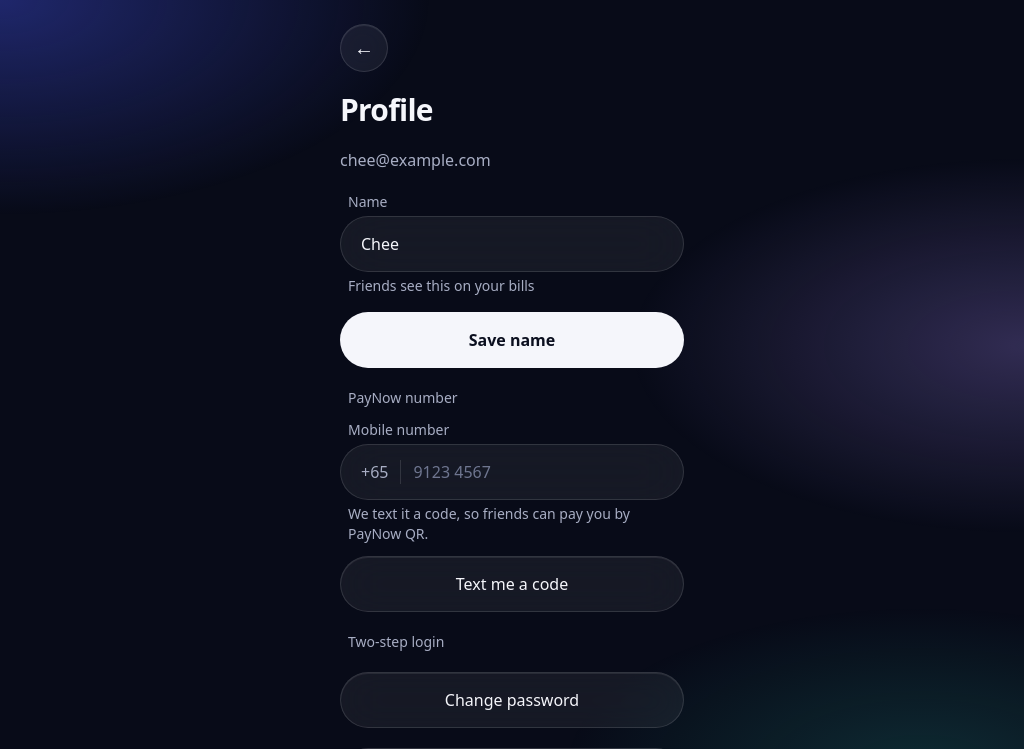
Test case: Change password from Profile (KAN-90) › needs the current password, then keeps you logged in with a new token
The width and height of the screenshot is (1024, 749).
Click the link "Change password" at {"x": 512, "y": 700}, box x1=340 y1=672 x2=684 y2=728
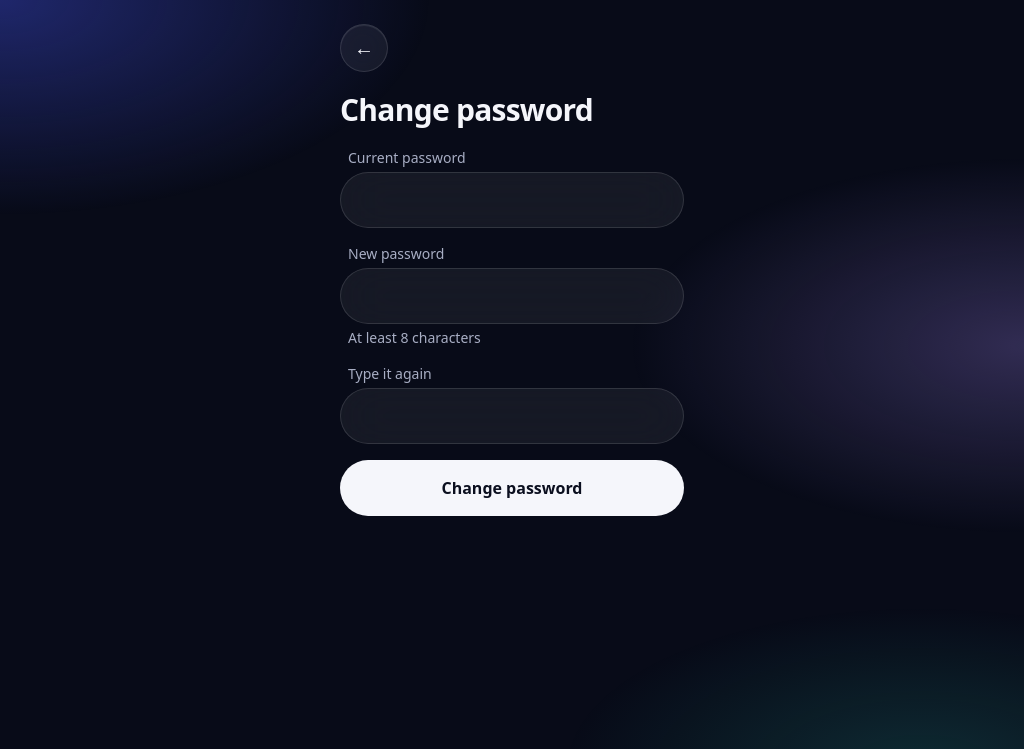
Type "brand new pass" into the password field labelled "New password" at {"x": 512, "y": 296}, box x1=340 y1=268 x2=684 y2=324
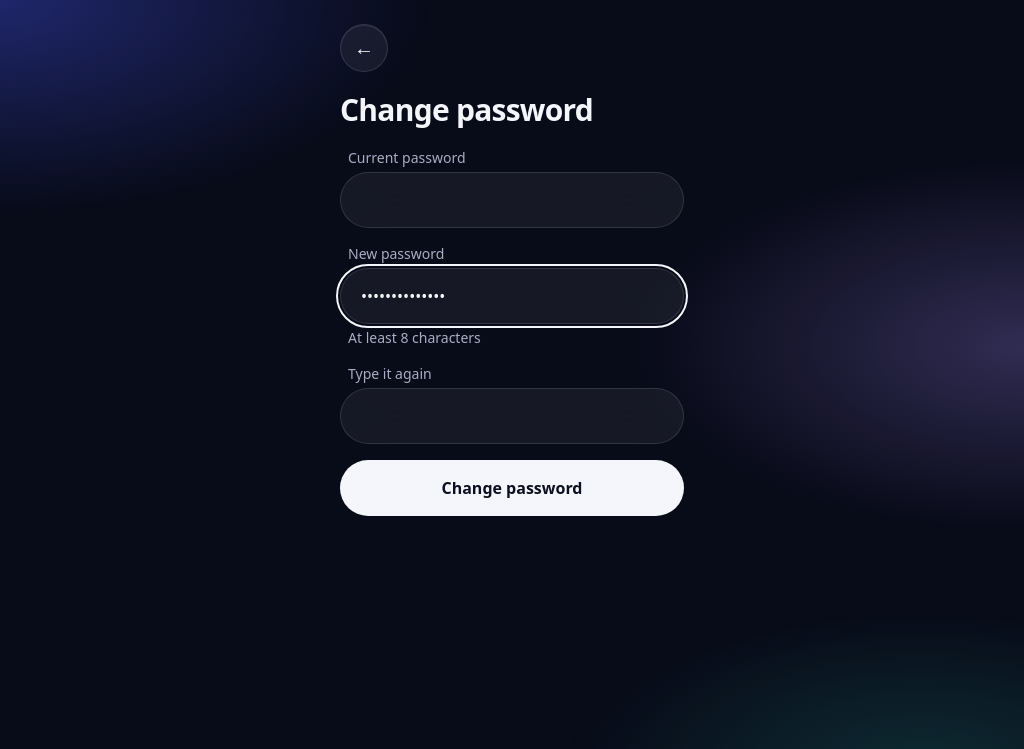
Type "brand new pass" into the password field labelled "Type it again" at {"x": 512, "y": 416}, box x1=340 y1=388 x2=684 y2=444
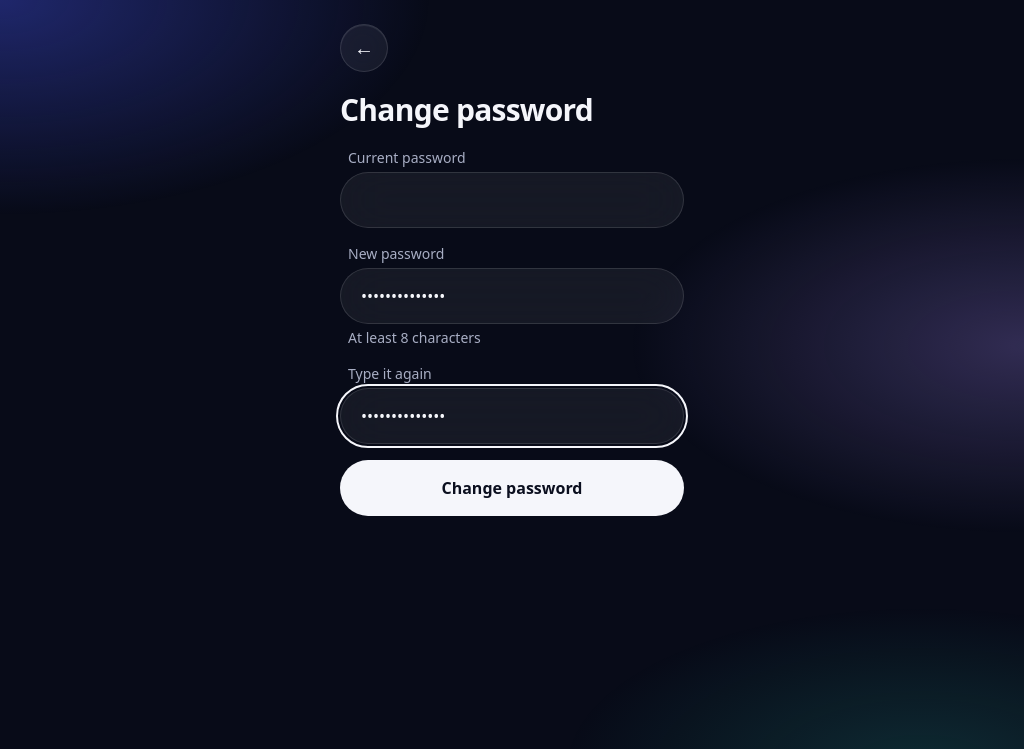
Click the button "Change password" at {"x": 512, "y": 488}, box x1=340 y1=460 x2=684 y2=516
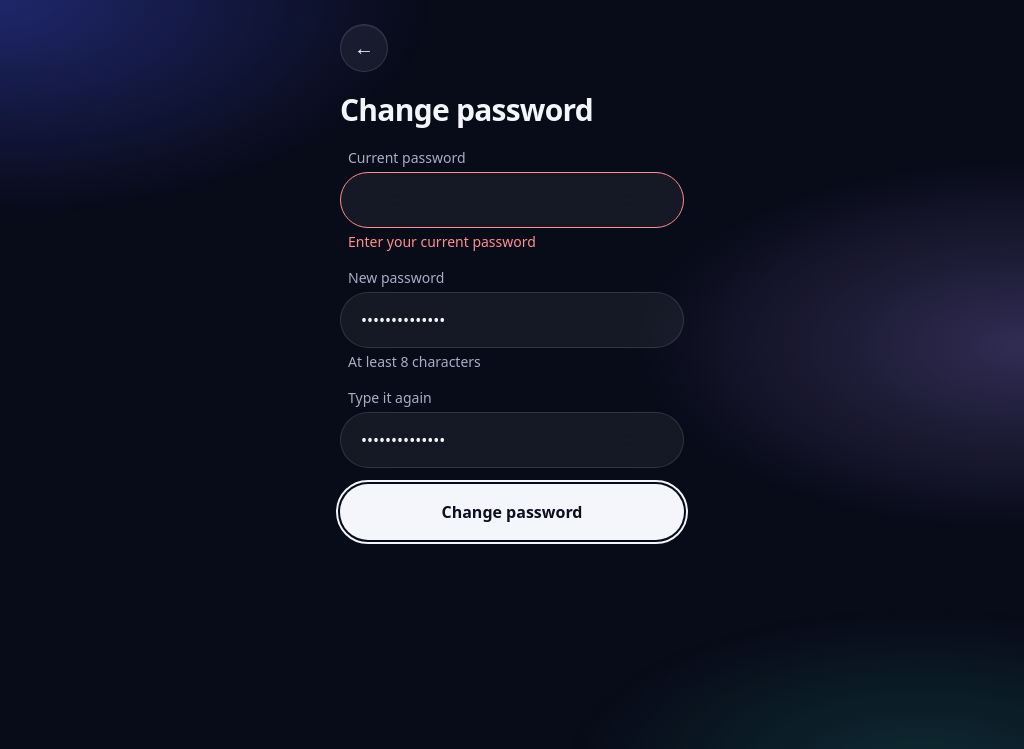
Result: the text "Enter your current password" is shown at x1=348 y1=232 x2=536 y2=251
Type "old password" into the password field labelled "Current password" at {"x": 512, "y": 200}, box x1=340 y1=172 x2=684 y2=228
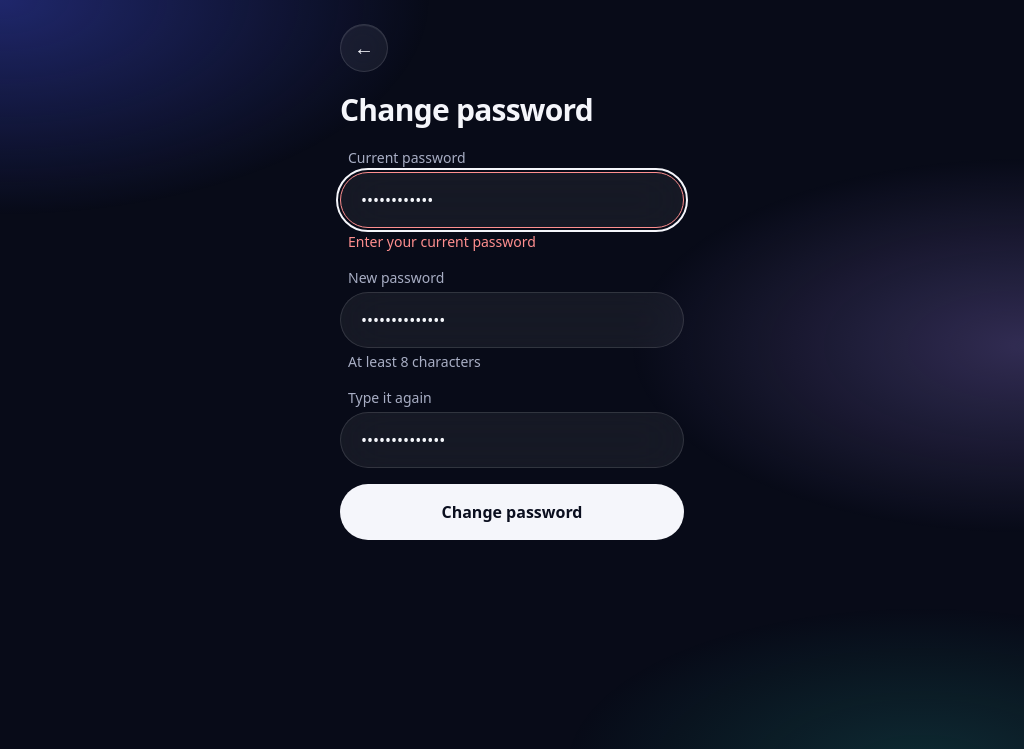
Click the button "Change password" at {"x": 512, "y": 512}, box x1=340 y1=484 x2=684 y2=540
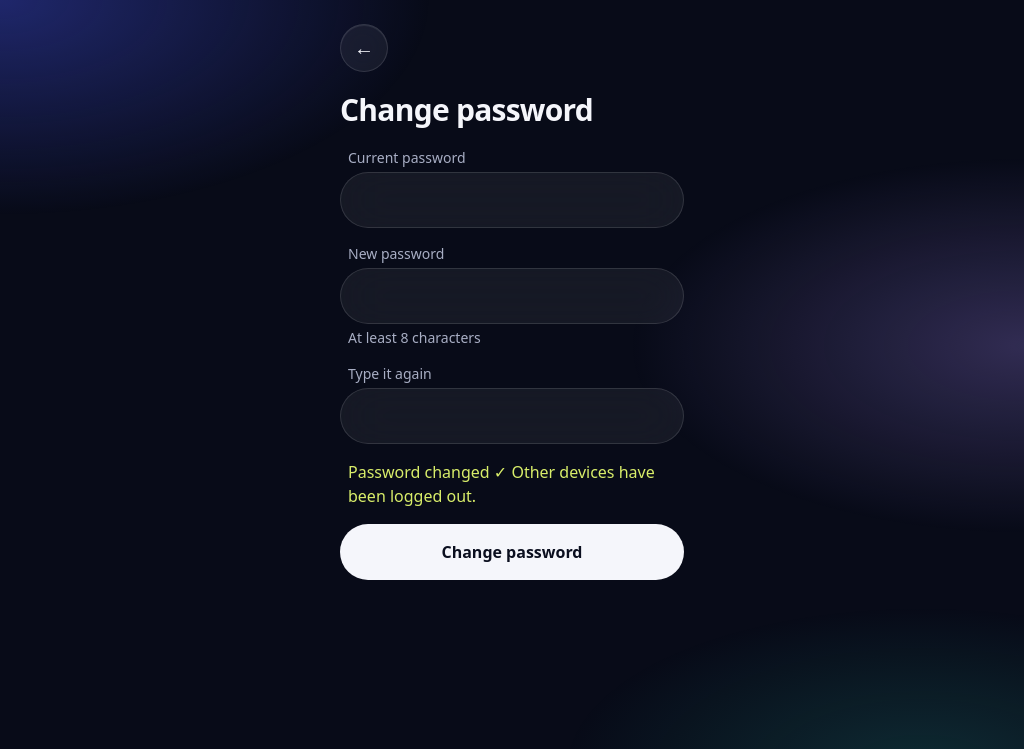
Result: the message shows "Password changed ✓" at x1=348 y1=461 x2=655 y2=507
Result: the password field labelled "Current password" is empty at x1=340 y1=172 x2=684 y2=228
